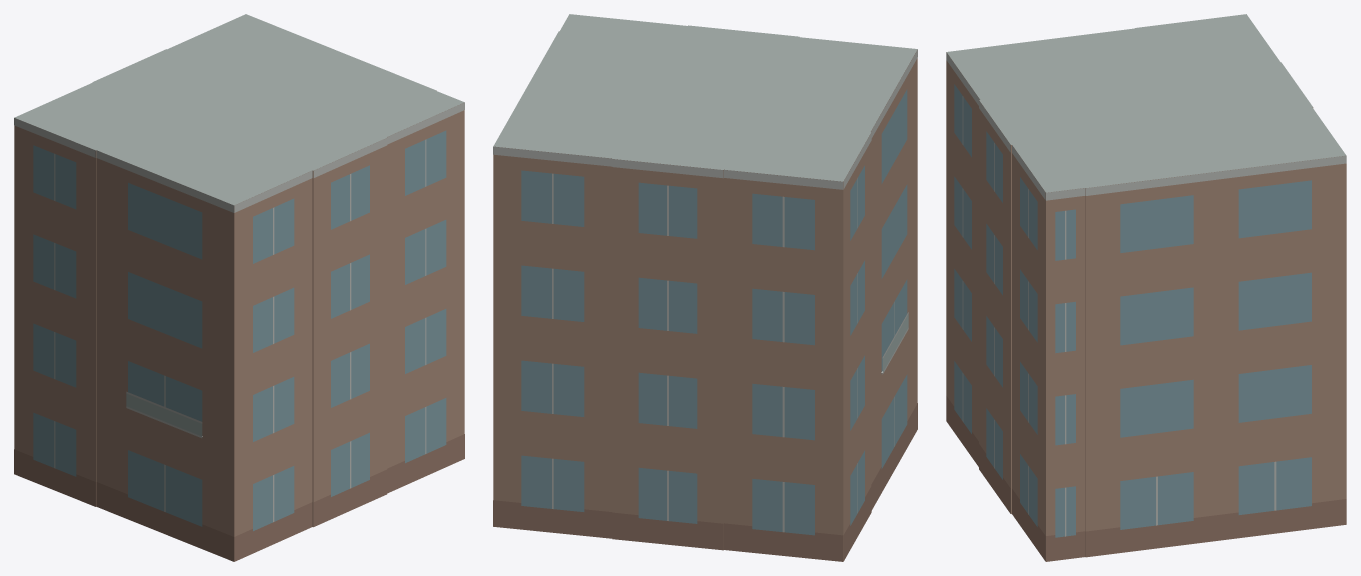
Rendered from survey-upis-32621318.glb.
3 renders of one model, left to right at view 1: azimuth 30°, elevation 25°; view 2: azimuth 150°, elevation 25°; view 3: azimuth 270°, elevation 25°, orthographic. The views are drawn at different scales.
Visible parts, largest first — view 1: survey-upis-32621318.tmp; view 2: survey-upis-32621318.tmp; view 3: survey-upis-32621318.tmp.
Part boxes in pixels (x1,y1,x2,y2): survey-upis-32621318.tmp: [14, 14, 464, 561]; survey-upis-32621318.tmp: [493, 14, 917, 561]; survey-upis-32621318.tmp: [946, 14, 1346, 561].
Size of the model in its own units: 11.78 by 11.33 by 11.14.
